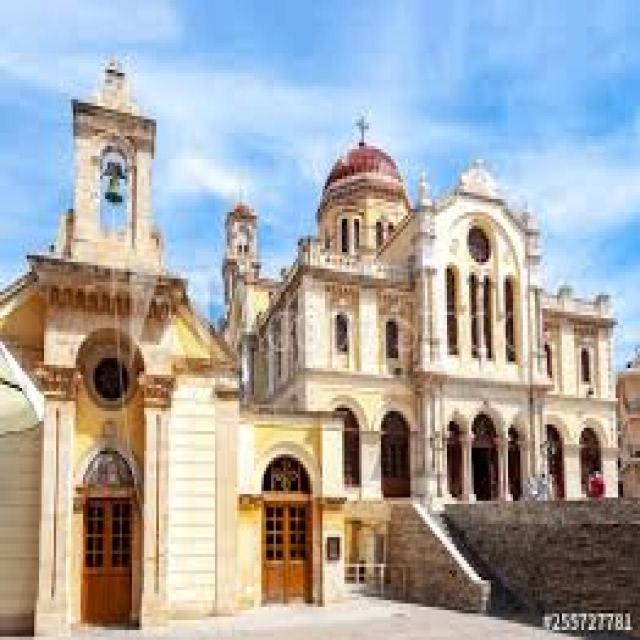Agios Minas: (1, 46, 640, 632)
